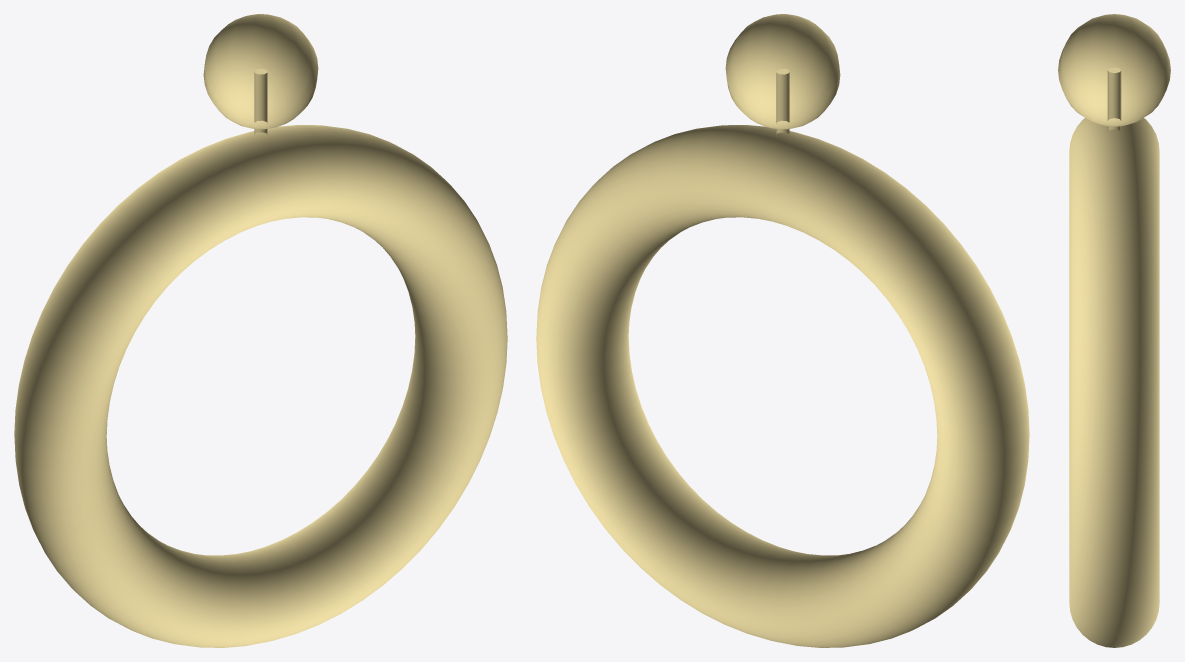
Rendered from test-solitaire.glb.
3 renders of one model, left to right at view 1: azimuth 30°, elevation 25°; view 2: azimuth 150°, elevation 25°; view 3: azimuth 270°, elevation 25°, orthographic. The views are drawn at different scales.
Visible parts, largest first — view 1: Model; view 2: Model; view 3: Model.
Part boxes in pixels (x1,y1,x2,y2): Model: [14, 14, 507, 647]; Model: [536, 14, 1029, 647]; Model: [1058, 14, 1170, 647].
Bounding box in the file's own units: 24 × 29.5 × 5.
